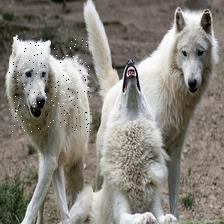WOLF: (10, 37, 92, 132), (167, 8, 216, 99)
